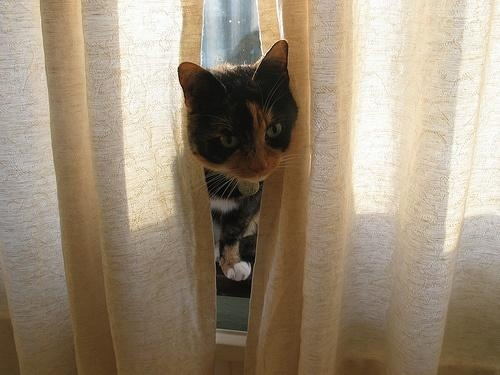cat: (178, 40, 298, 281)
